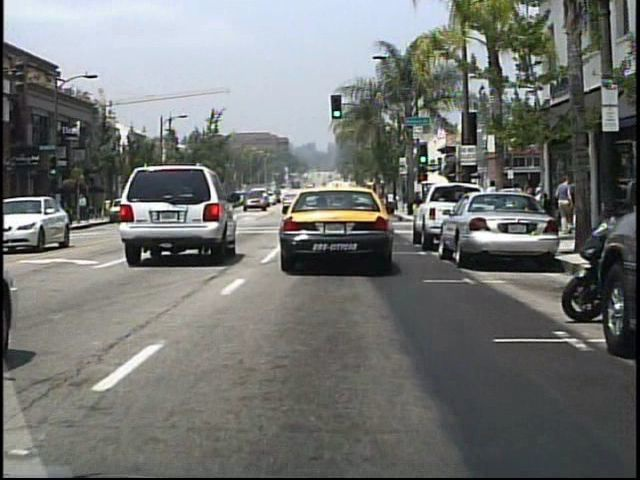person: (519, 177, 540, 235), (555, 176, 575, 235)
